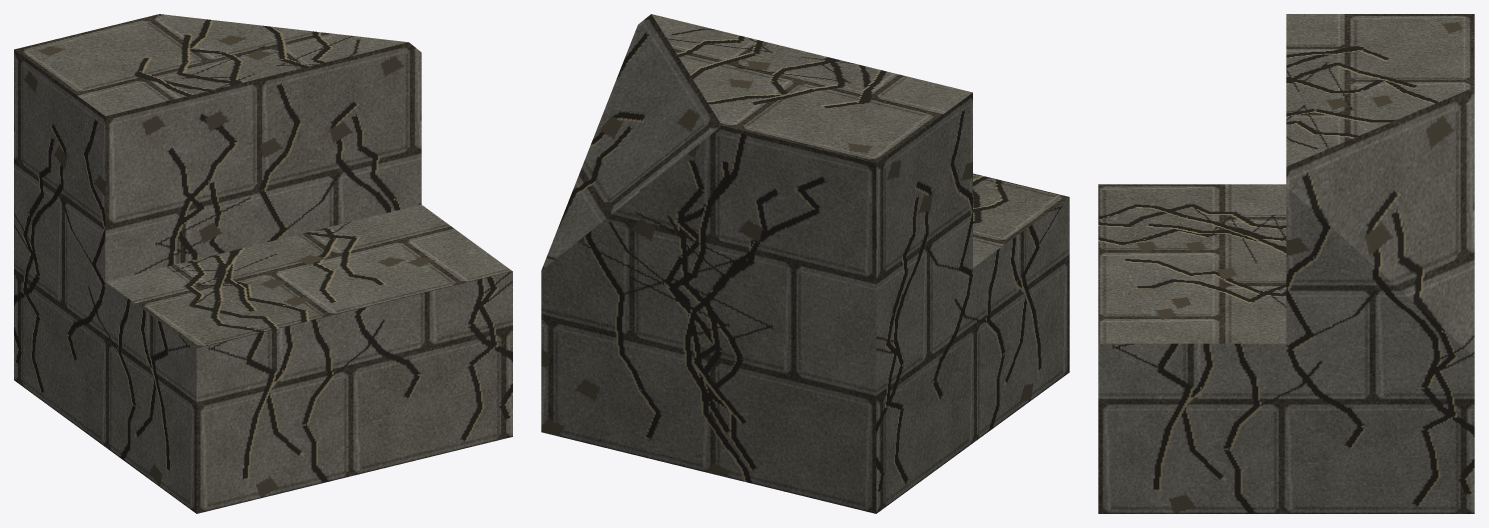
The model's file is stairs_z3.glb.
3 views of the same model, side by side, from view 1: azimuth 30°, elevation 25°; view 2: azimuth 150°, elevation 25°; view 3: azimuth 270°, elevation 25° (orthographic). The views are drawn at different scales.
Visible parts, largest first — view 1: stairs_z3; view 2: stairs_z3; view 3: stairs_z3.
Boxes of the visible parts, box(x1,y1,x2,y2) form: stairs_z3: box(14, 14, 512, 513); stairs_z3: box(541, 14, 1069, 513); stairs_z3: box(1098, 14, 1474, 513).
Bounding box in the file's own units: 1 × 1 × 1.
1 material, 1 textured.
